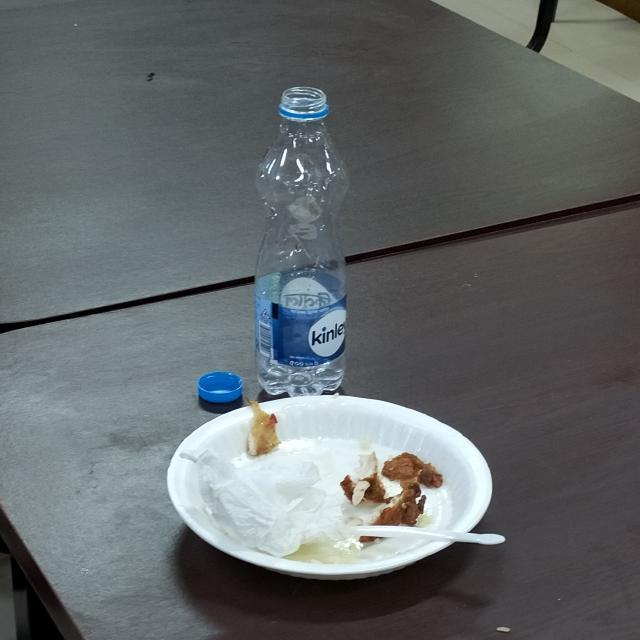kitchen paper: (204, 434, 376, 554)
